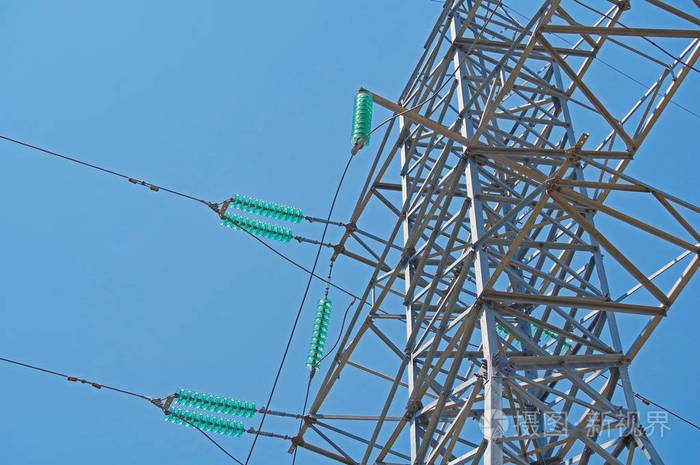insulator: (162, 404, 246, 438), (173, 388, 257, 419), (219, 211, 293, 245), (229, 190, 303, 222), (311, 296, 334, 373), (350, 90, 375, 147)
